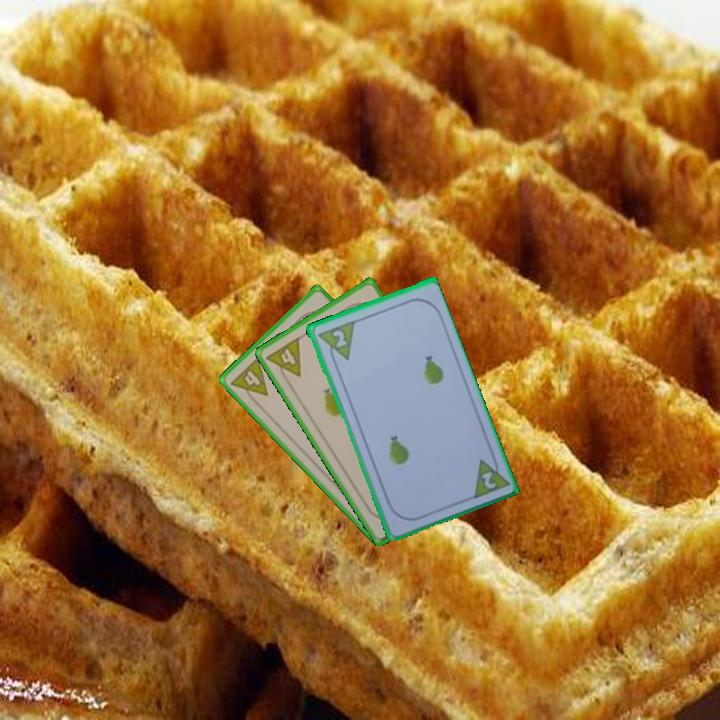2p: (477, 467, 499, 492), (328, 326, 350, 350)
4p: (227, 353, 271, 408), (263, 333, 304, 387)
